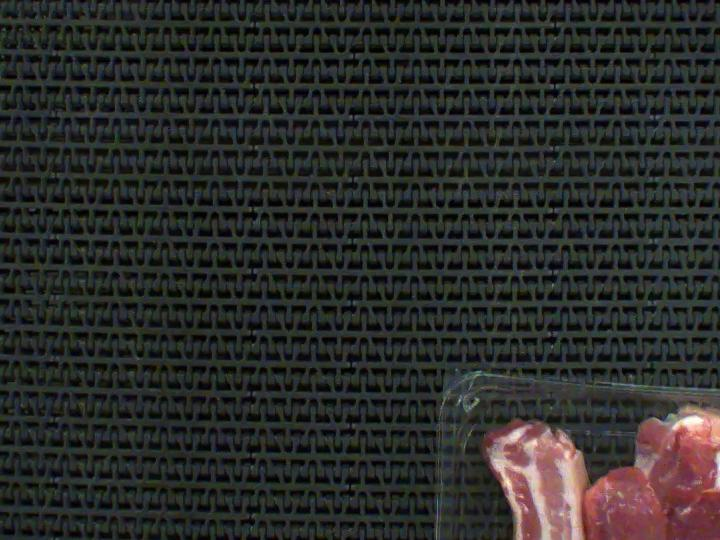packaging-error: (628, 371, 720, 465)
